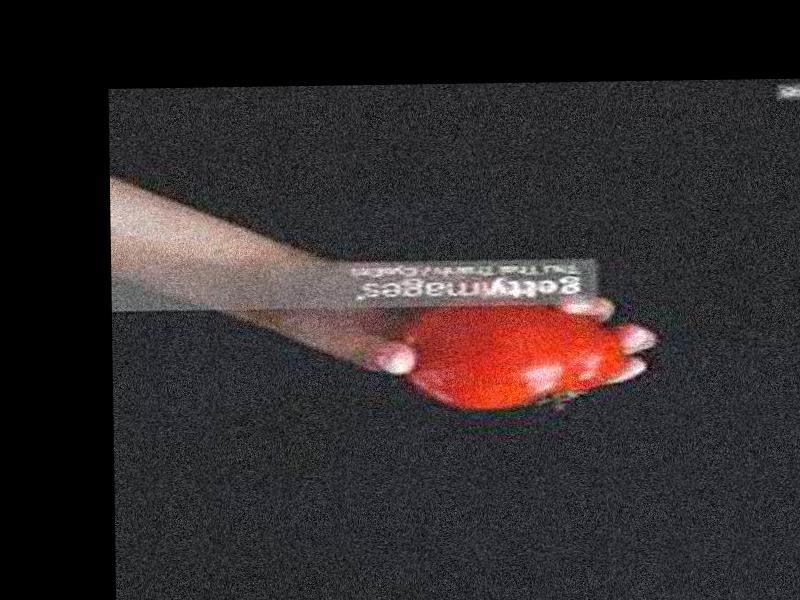Tomato: (408, 298, 633, 411)
